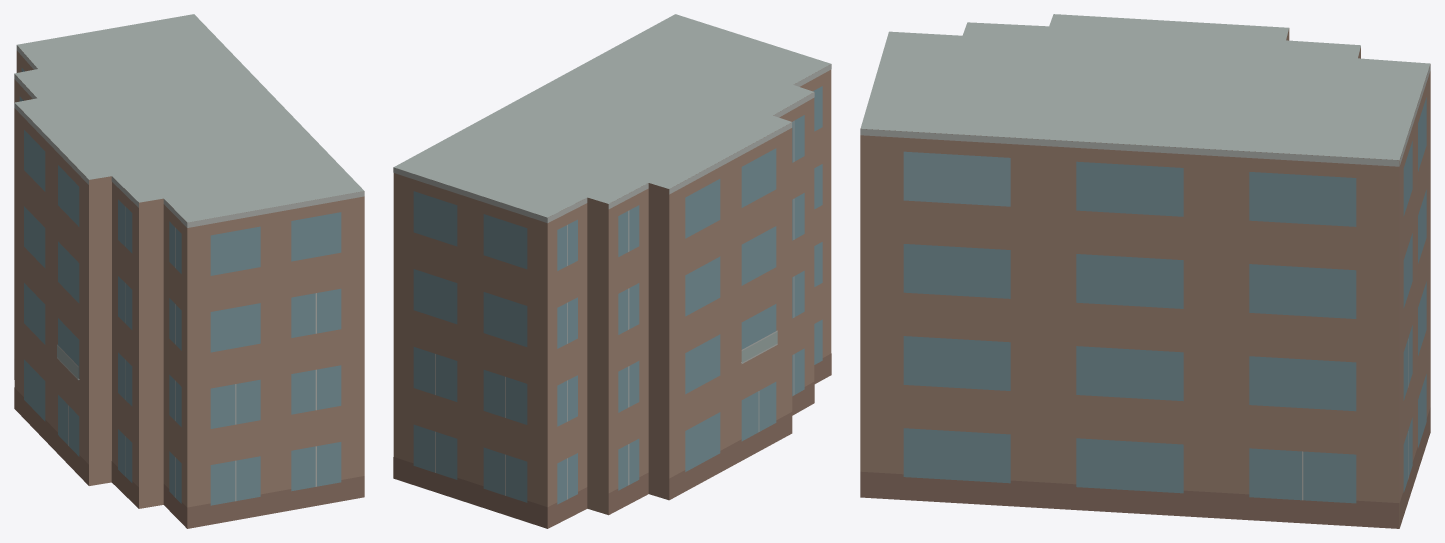
Rendered from survey-upis-32934042.glb.
3 renders of one model, left to right at view 1: azimuth 30°, elevation 25°; view 2: azimuth 150°, elevation 25°; view 3: azimuth 270°, elevation 25°, orthographic. The views are drawn at different scales.
Parts seen in each view (by area): view 1: survey-upis-32934042.tmp; view 2: survey-upis-32934042.tmp; view 3: survey-upis-32934042.tmp.
Part boxes in pixels (x1,y1,x2,y2): survey-upis-32934042.tmp: [14, 14, 364, 528]; survey-upis-32934042.tmp: [393, 14, 831, 528]; survey-upis-32934042.tmp: [860, 14, 1430, 528].
Bounding box in the file's own units: 11.66 × 13.7 × 19.21.
